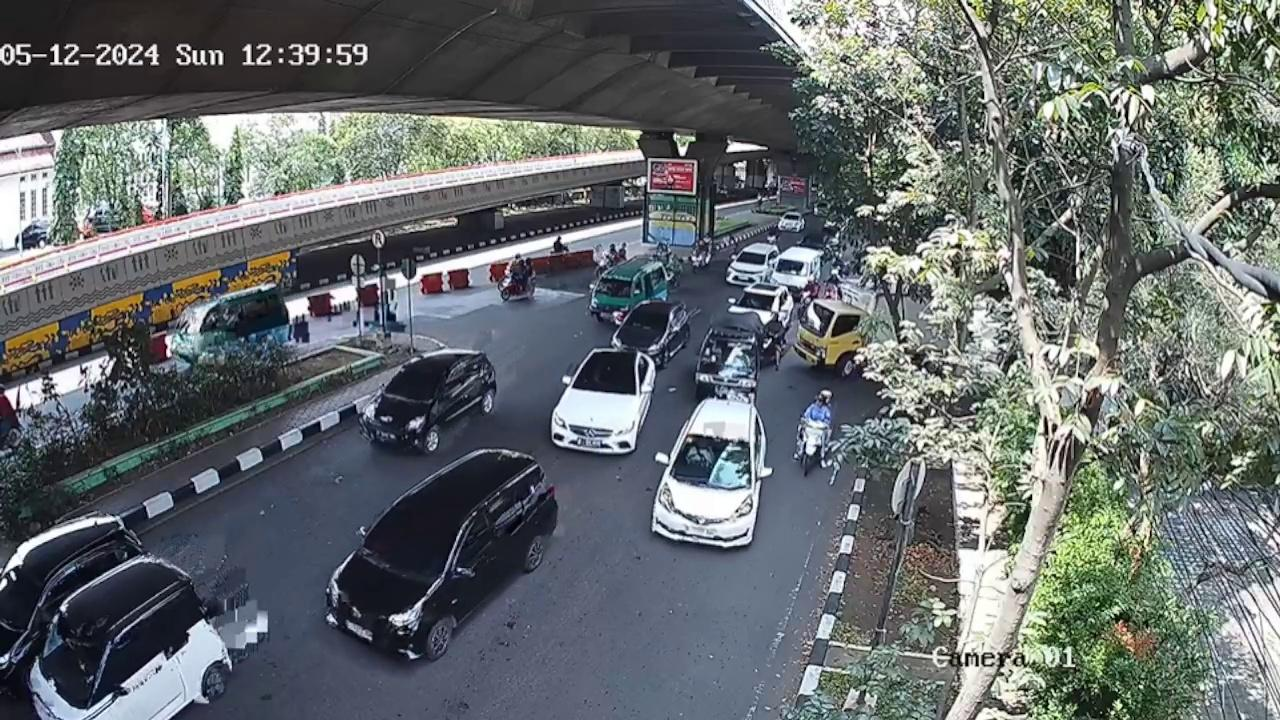pakai: (692, 441, 714, 470)
windshield: (366, 509, 464, 573), (675, 433, 752, 487), (565, 363, 641, 398), (385, 361, 437, 397)
